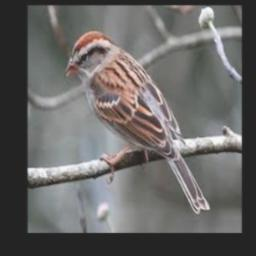Sparrow: (64, 30, 210, 215)
